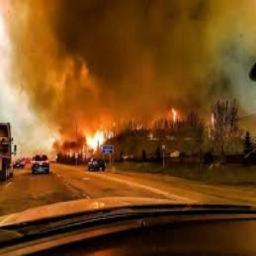Heavy smoke: (0, 0, 255, 157)
Large fire: (7, 66, 228, 178)
